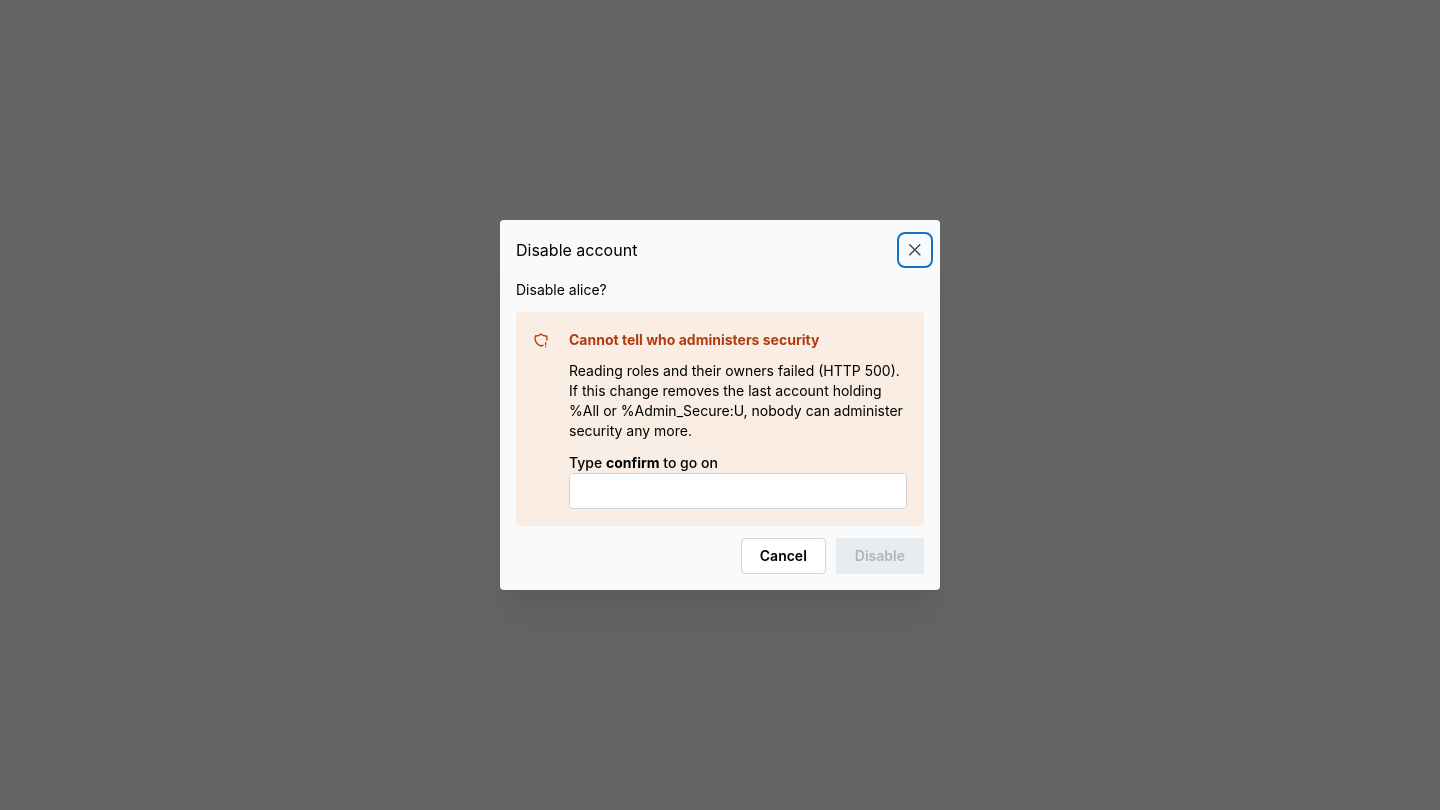
Test: a dialog guarded against locking everyone out › asks for the name to be typed when it cannot tell
Expected: the button "Disable" is disabled, [836,538,924,574]
Type "confirm" into the field labelled "Type confirm to go on". click: (738, 491)
box: [569,473,907,509]
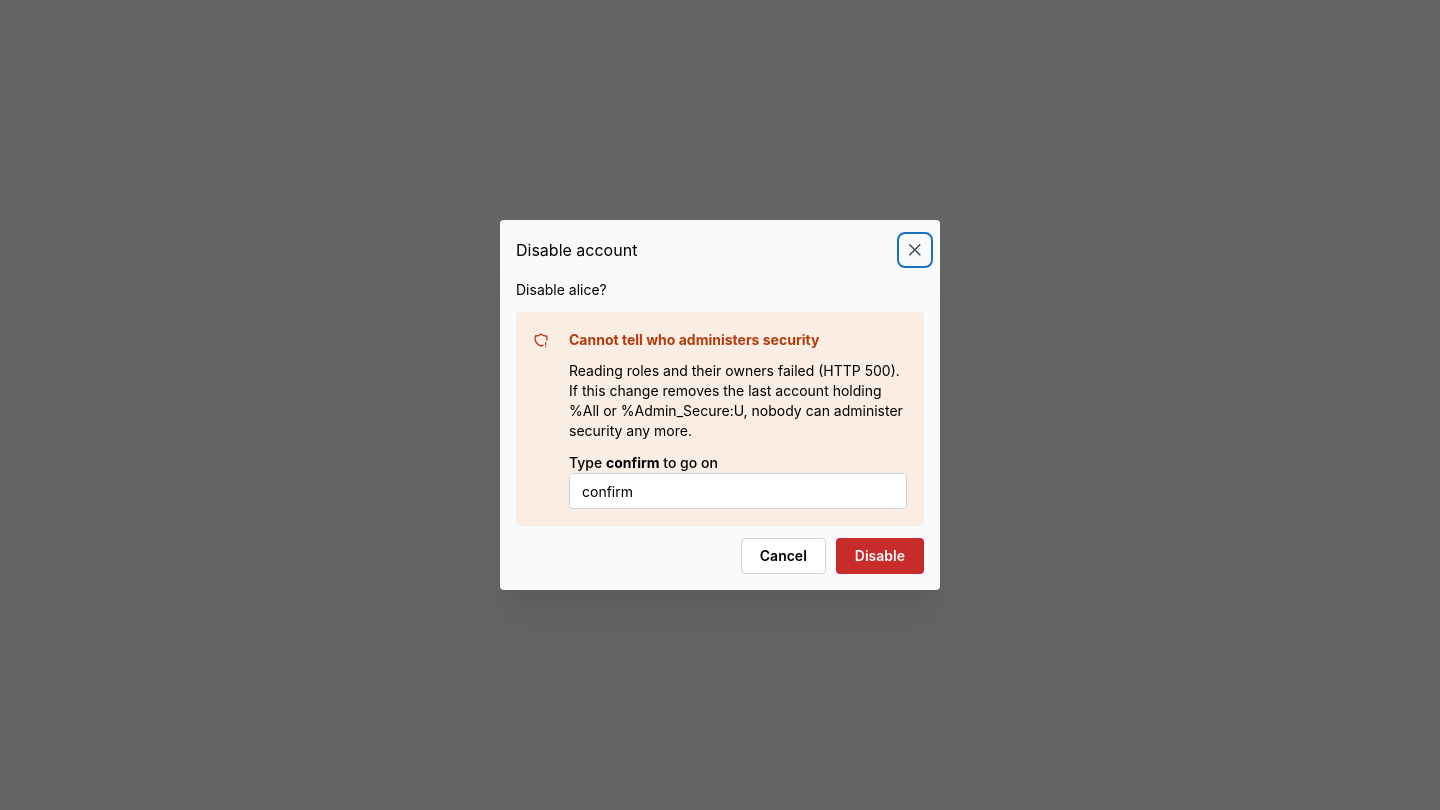
Result: the button "Disable" is enabled at [836,538,924,574]
